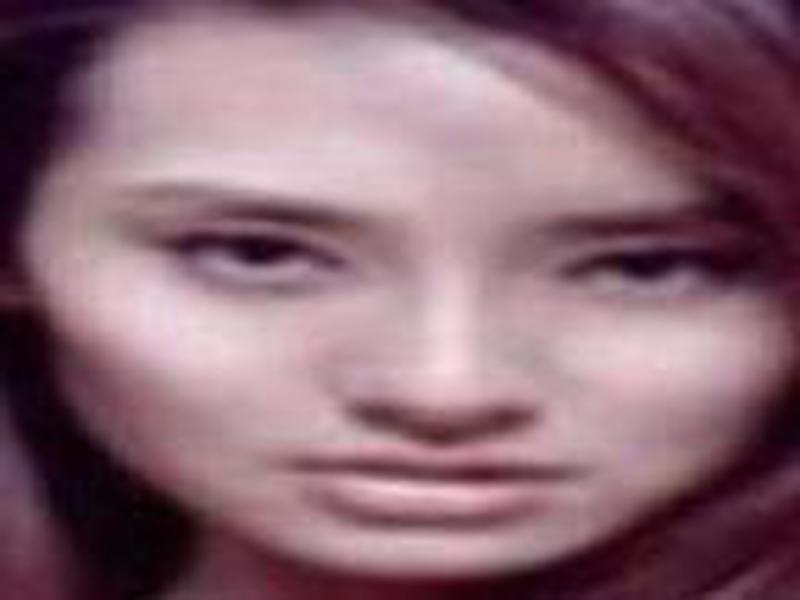without_mask: (26, 94, 800, 575)
